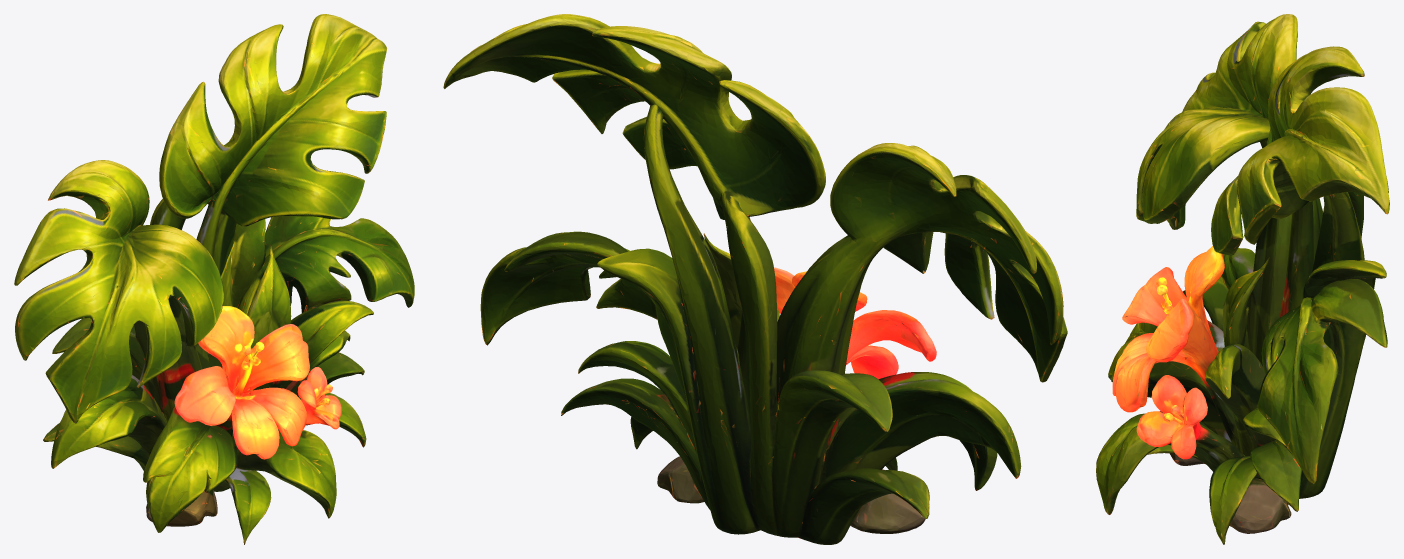
The model's file is hibiscus_monstera.fbx.
3 views of the same model, side by side, from view 1: azimuth 30°, elevation 25°; view 2: azimuth 150°, elevation 25°; view 3: azimuth 270°, elevation 25° (orthographic). The views are drawn at different scales.
Parts seen in each view (by area): view 1: world; view 2: world; view 3: world.
Part boxes in pixels (bbox=[...]): world: bbox=[14, 14, 414, 544]; world: bbox=[443, 14, 1067, 544]; world: bbox=[1096, 14, 1389, 544].
Bounding box in the file's own units: 199 × 181 × 98.68.
Materials: 1 (1 with a texture image).
